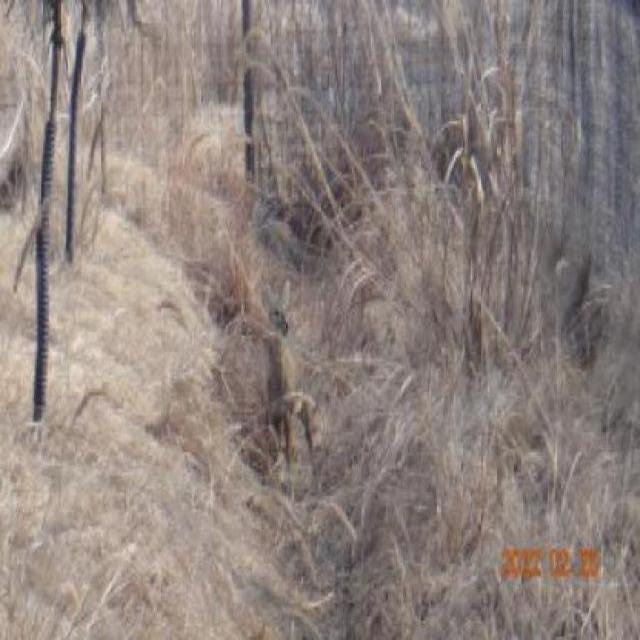deer: (258, 277, 318, 468)
